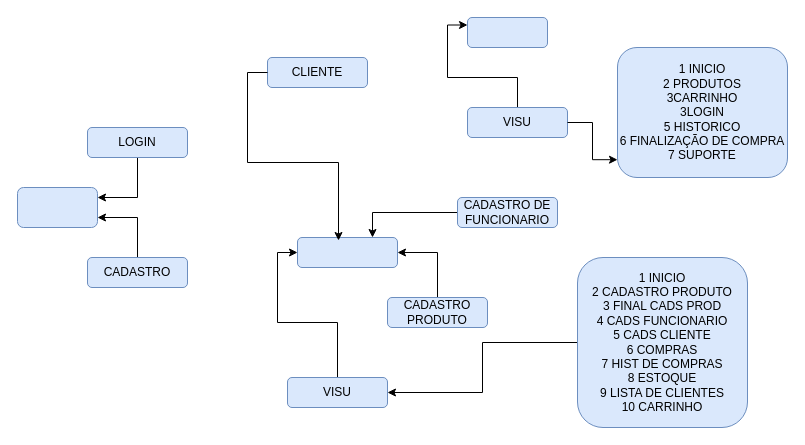
This 805x445 diagram has some shape labels left out. Here are the shapes that lost their labels. From the top down, the centre of each, then its label:
(x=507, y=32): COMPRA
(x=57, y=207): HOME
(x=347, y=252): ADM
